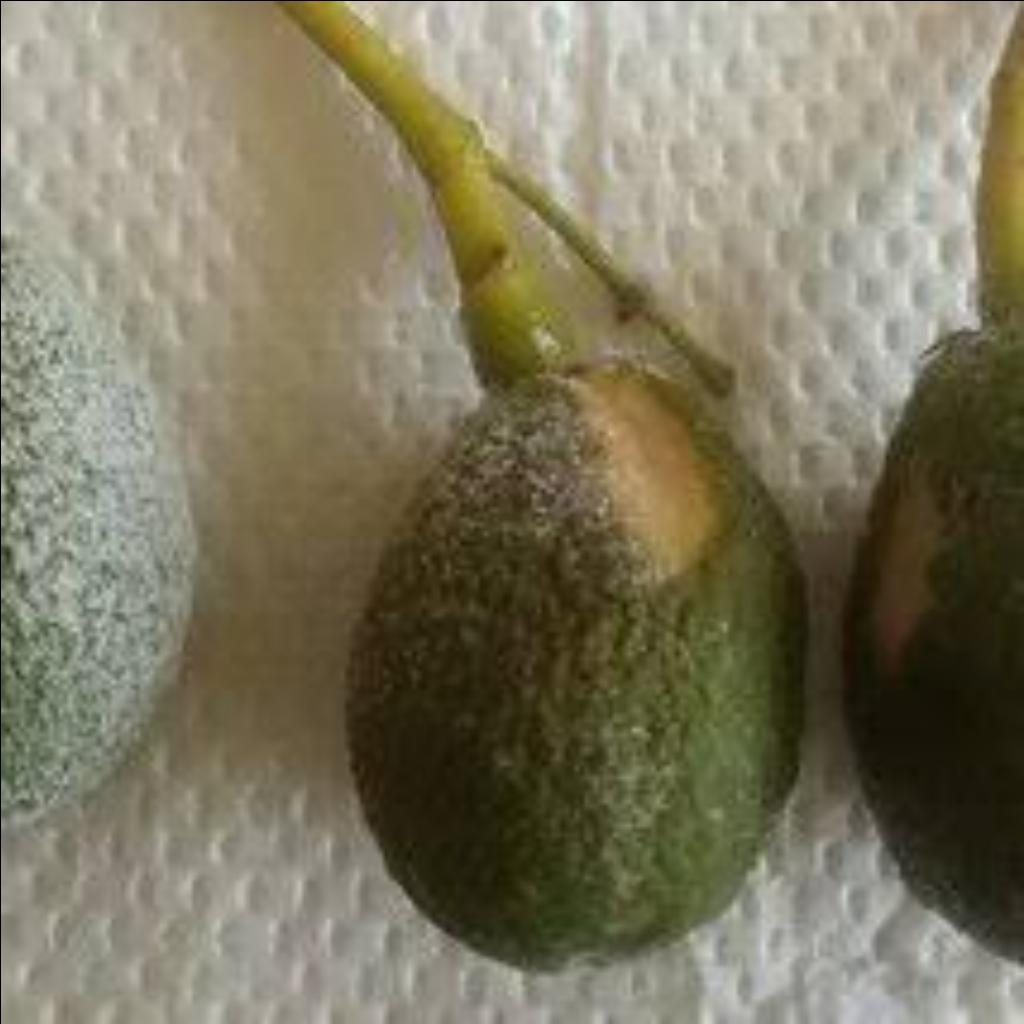sunblotch: (325, 318, 837, 997), (784, 270, 1023, 988)
